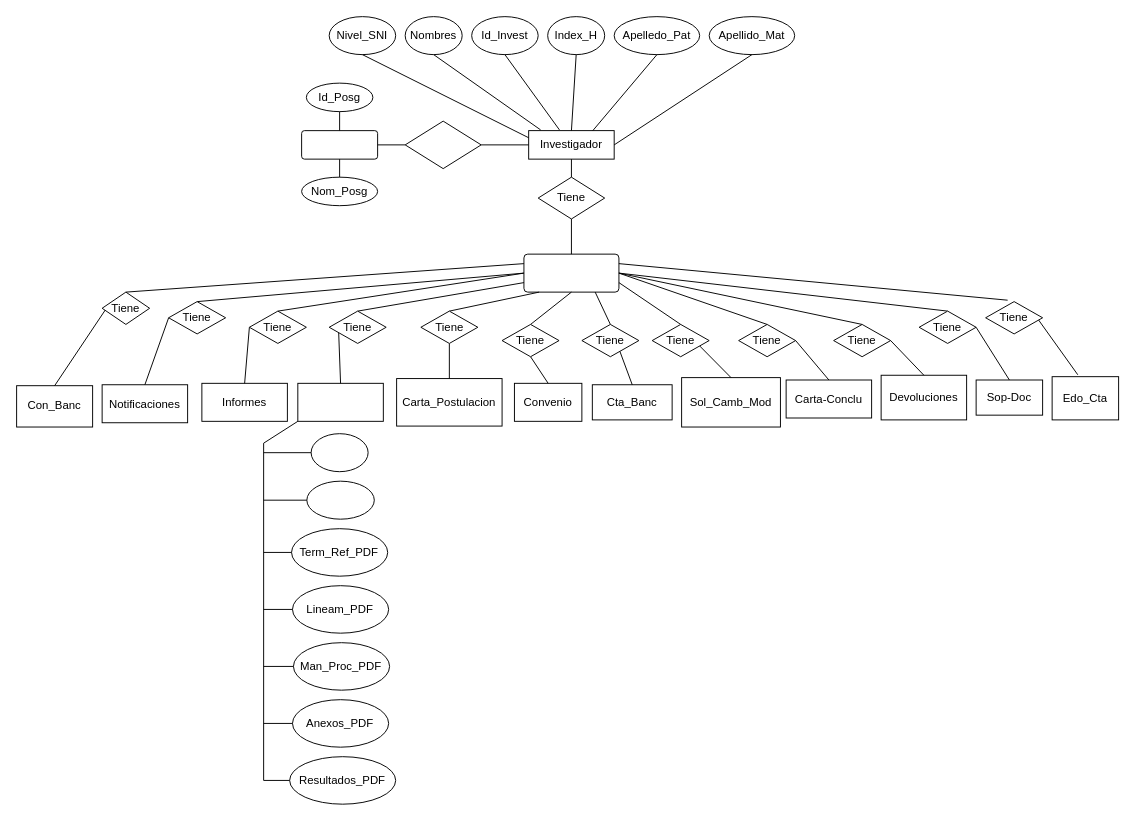
Image size: 1135x821. Some labels were removed from this diagram. Each missing label, with the centre of its shape:
Convocatoria: point (340, 401)
Nombre: point (339, 452)
PDF_nom: point (340, 499)
Pertecene: point (442, 144)
Posgrado: point (339, 144)
Proyecto: point (571, 272)
